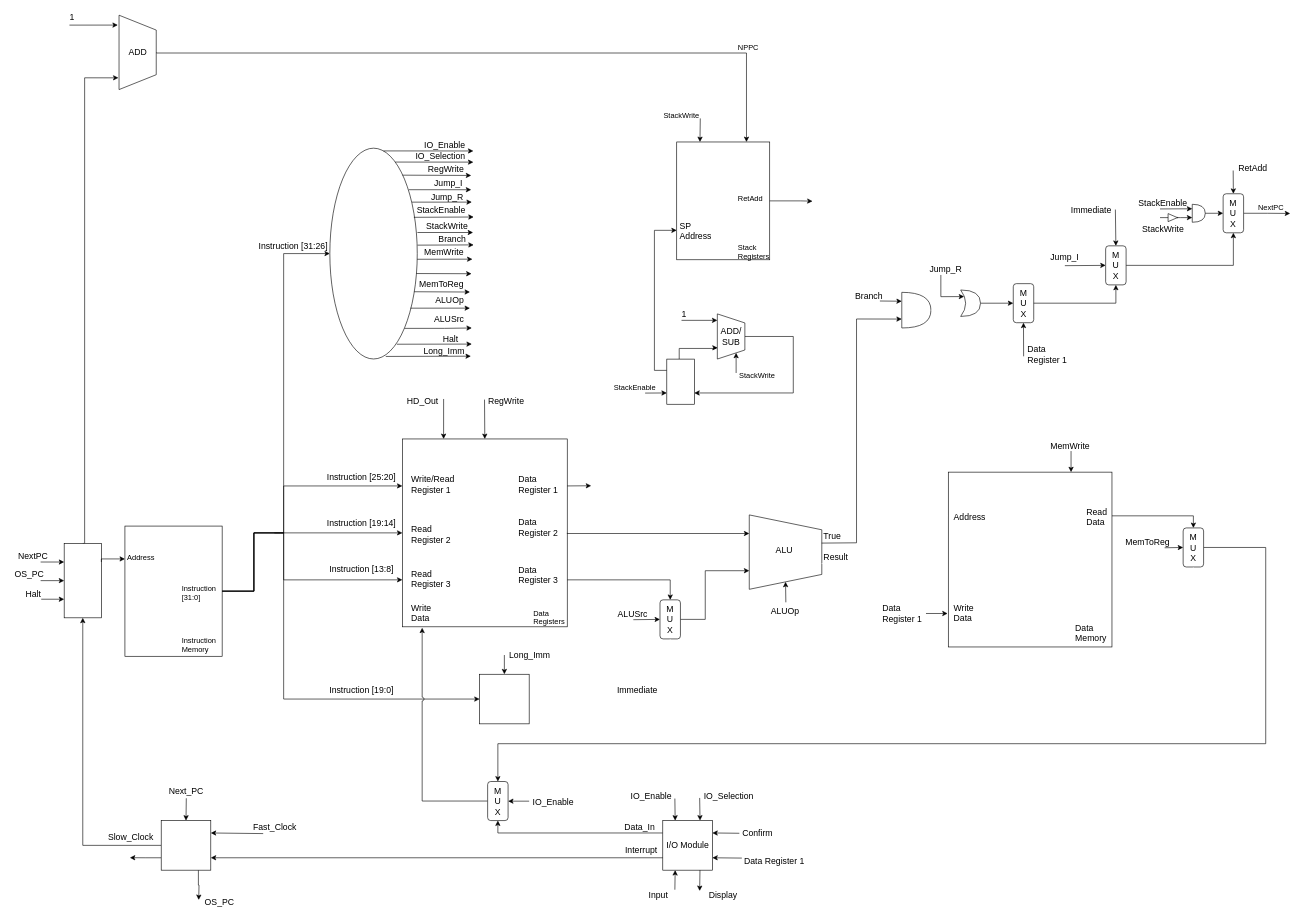
Some shapes in this 1306 by 918 pixel diagram are drawn without their labels. The box of each missing label's shape, as (x1, y1, x2, y2) in pixels:
Clock Manager: (161, 820, 211, 870)
Control: (329, 148, 417, 359)
Extend: (479, 674, 529, 724)
PC: (64, 543, 101, 618)
SP: (666, 358, 694, 404)
